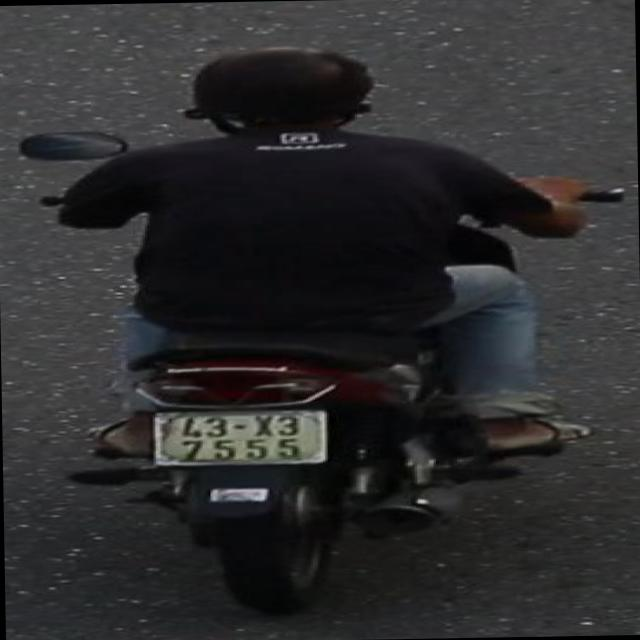LP: (143, 404, 334, 471)
helmet: (180, 38, 382, 148)
